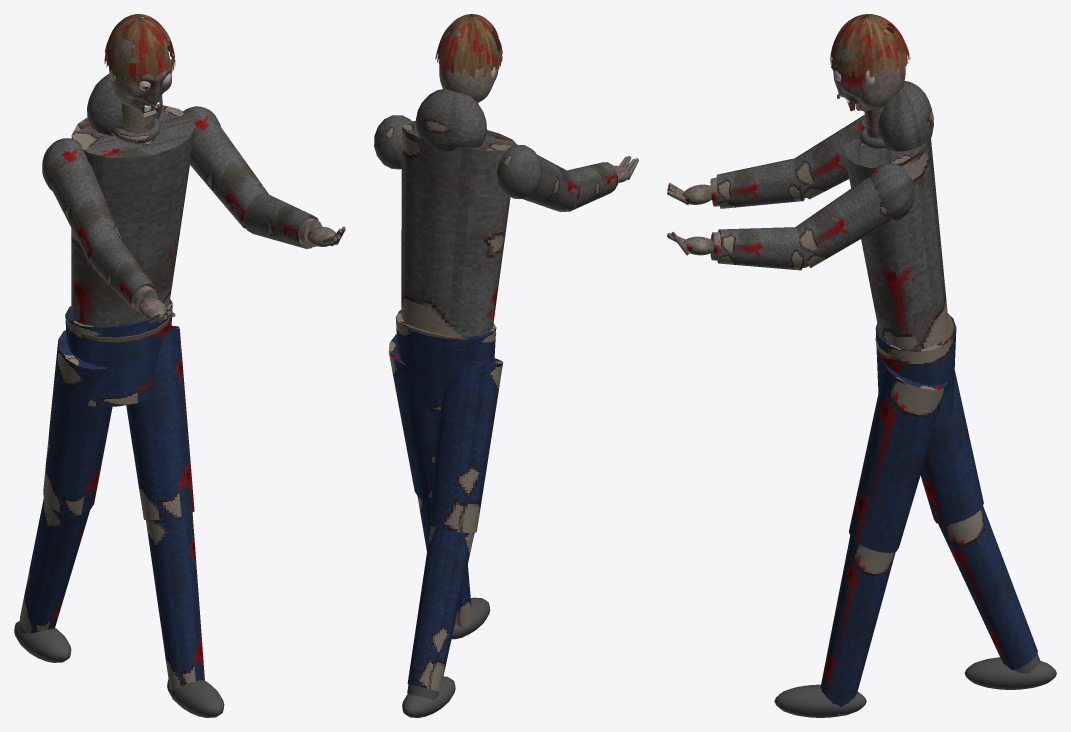
Rendered from Zombie_134.glb.
3 renders of one model, left to right at view 1: azimuth 30°, elevation 25°; view 2: azimuth 150°, elevation 25°; view 3: azimuth 270°, elevation 25°, orthographic. The views are drawn at different scales.
Visible parts, largest first — view 1: Zombie_134, object 44, object 12, object 4, object 18; view 2: Zombie_134, object 44, object 4, object 18; view 3: Zombie_134, object 44, object 4, object 12, object 18.
Part boxes in pixels (x1,y1,x2,y2): Zombie_134: (14, 74, 269, 717); object 44: (104, 14, 175, 79); object 12: (243, 193, 318, 248); object 4: (90, 237, 156, 313); object 18: (109, 36, 171, 111); Zombie_134: (374, 88, 580, 717); object 44: (435, 14, 502, 74); object 4: (567, 162, 617, 211); object 18: (439, 29, 498, 102); Zombie_134: (774, 81, 1056, 717); object 44: (830, 14, 910, 74); object 4: (716, 158, 804, 208); object 12: (717, 227, 804, 270); object 18: (831, 28, 905, 112).
Size of the model in its own units: 0.6008 by 2.03 by 1.05.
16 materials, 6 textured.
